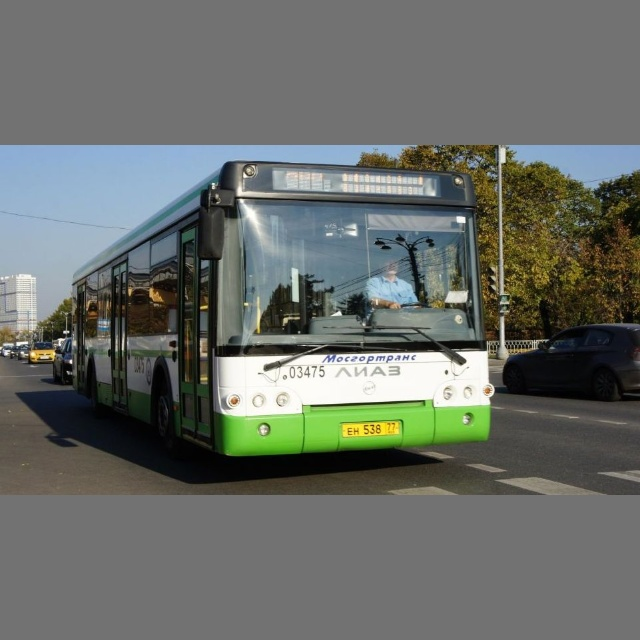Автобус: (71, 160, 489, 459)
